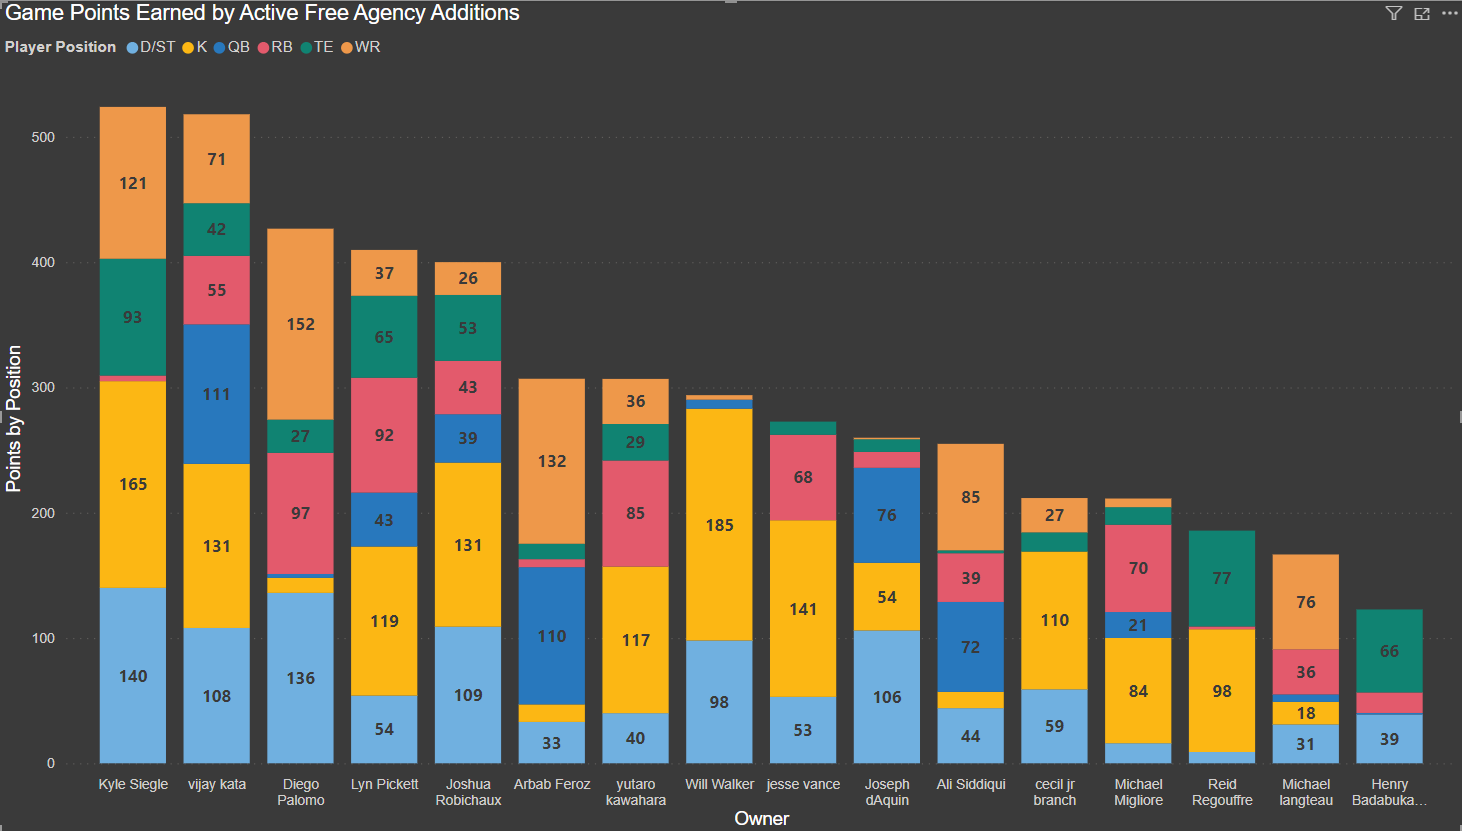

What the dashboard file says about the page in this screenshot:
{"tool":"powerbi","page":{"name":"Page 1","canvas":[1280,720],"ordinal":0},"visuals":[{"type":"columnChart","title":"Game Points Earned by Active Free Agency Additions ","fields":{"Category":["FA Added.owner"],"Y":["Sum(FA Added.sum points)"],"Series":["FA Added.playerposition"]},"box":[17.4,0,1262.6,719.7],"z":0}]}

Visuals, with their boxes in screenshot pixels (x1, y1, x2, y2), scaled from the page's 1280x720 canvas onto the 1462x831 screenshot:
"Game Points Earned by Active Free Agency Additions " columnChart: 20,0,1461,830
